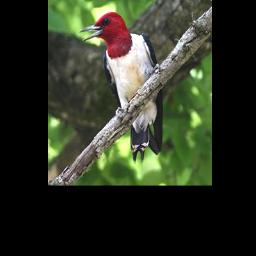Woodpecker: (77, 11, 167, 164)
